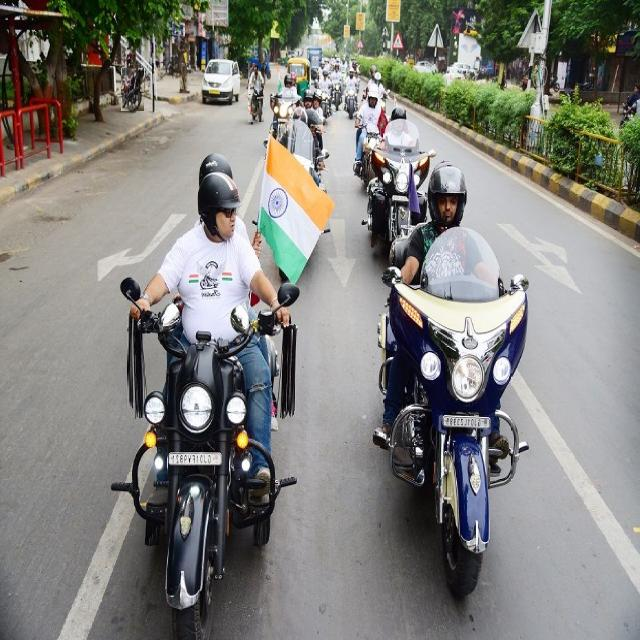autorickshaw: (288, 56, 310, 96)
car: (202, 60, 240, 104)
motorcycle: (111, 172, 299, 639), (372, 163, 529, 597), (362, 107, 436, 246), (121, 69, 144, 111), (248, 64, 264, 122), (321, 92, 331, 120), (333, 83, 340, 111)
